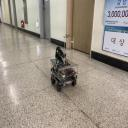cart: (49, 58, 79, 92)
